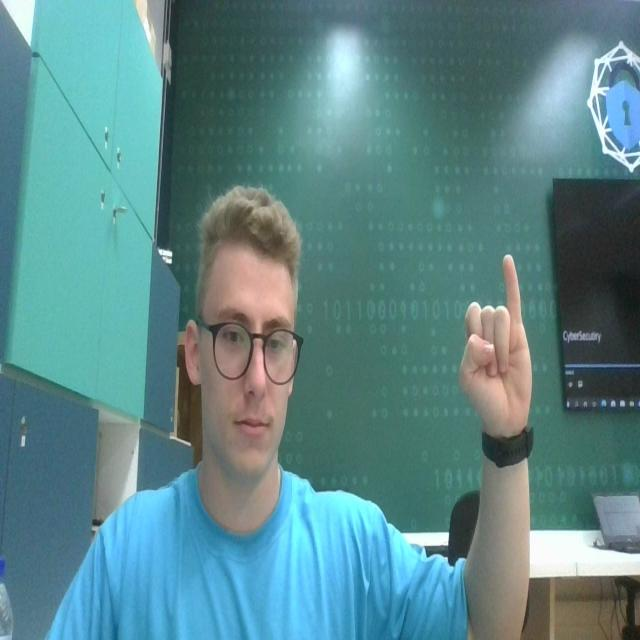I: (448, 233, 542, 438)
